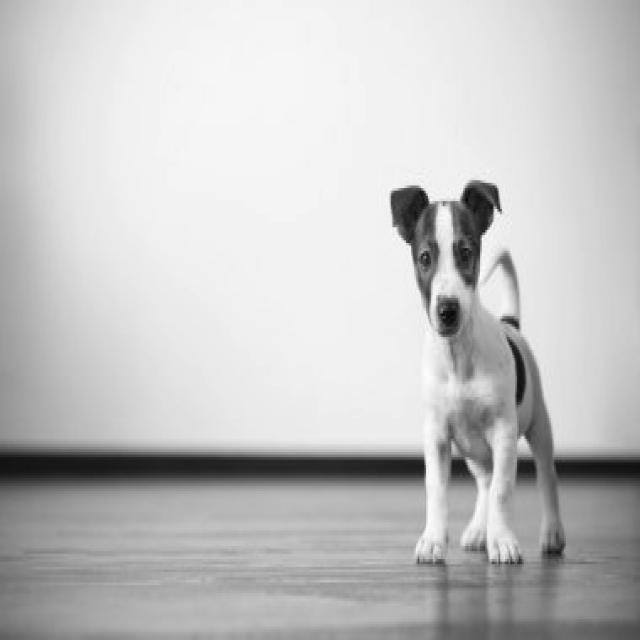Animal: (393, 180, 565, 562)
